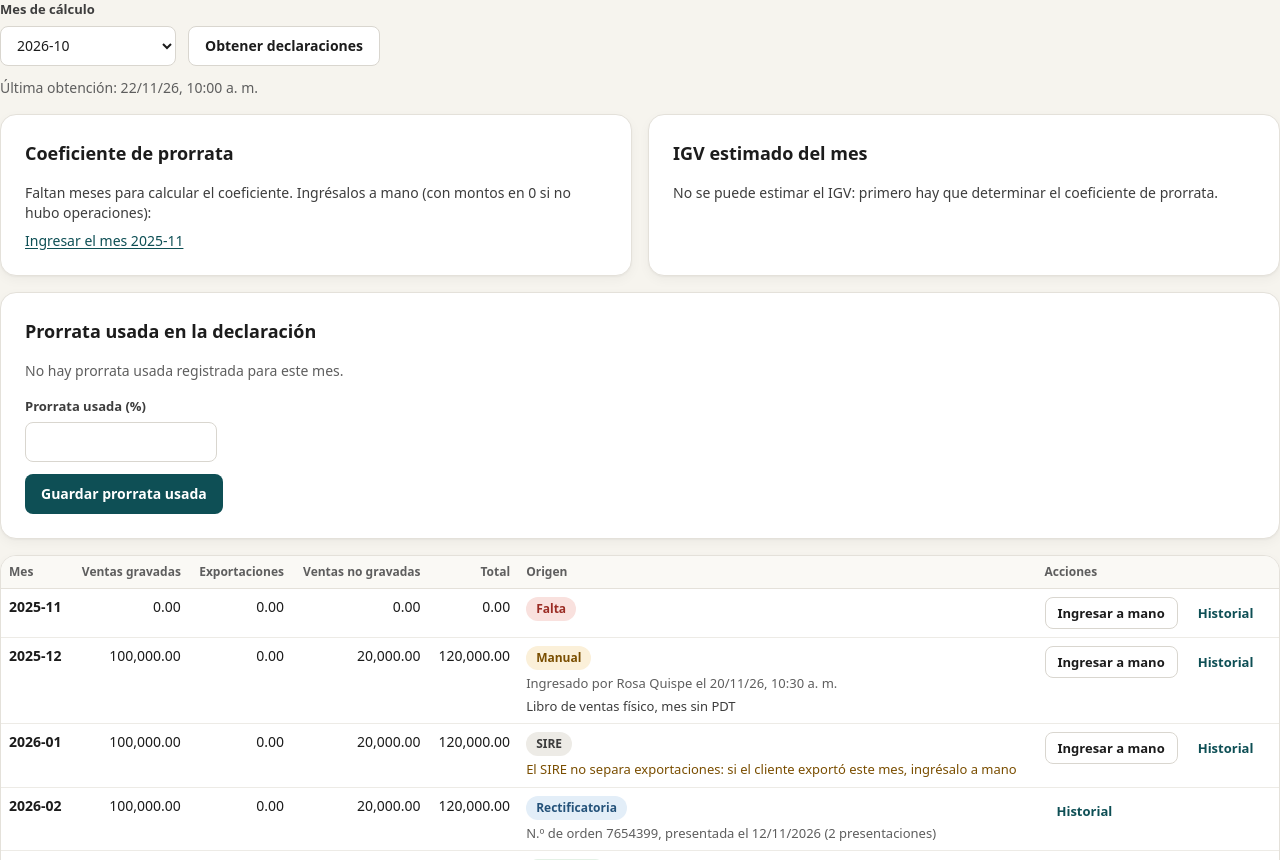
Test: D-1: 409 en el diálogo de mes manual › cancelar sin haber chocado no vuelve a leer
The image size is (1280, 860).
Click the 1st button "Ingresar a mano" at (1111, 613), box [1044, 597, 1178, 629]
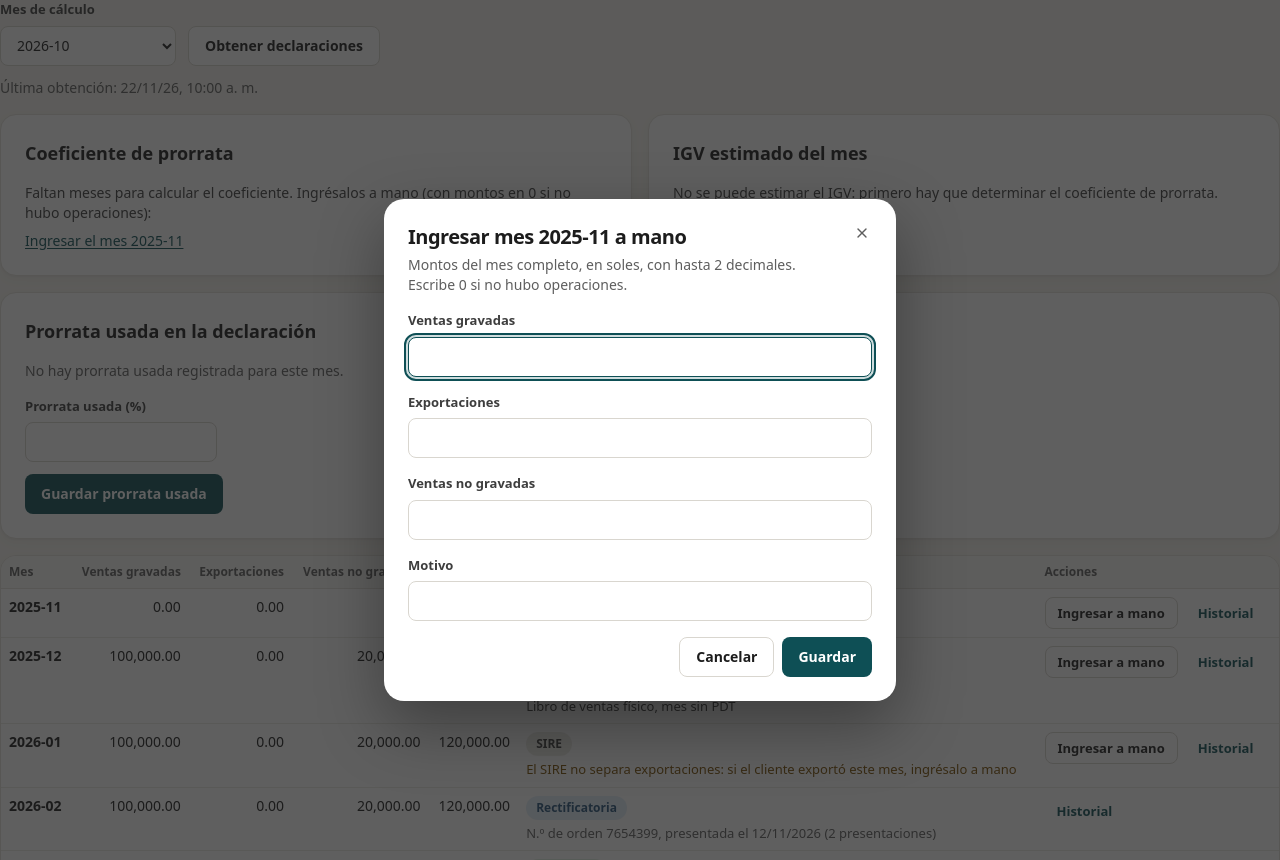
Click the button "Cancelar" at (727, 657), box [679, 637, 774, 677]
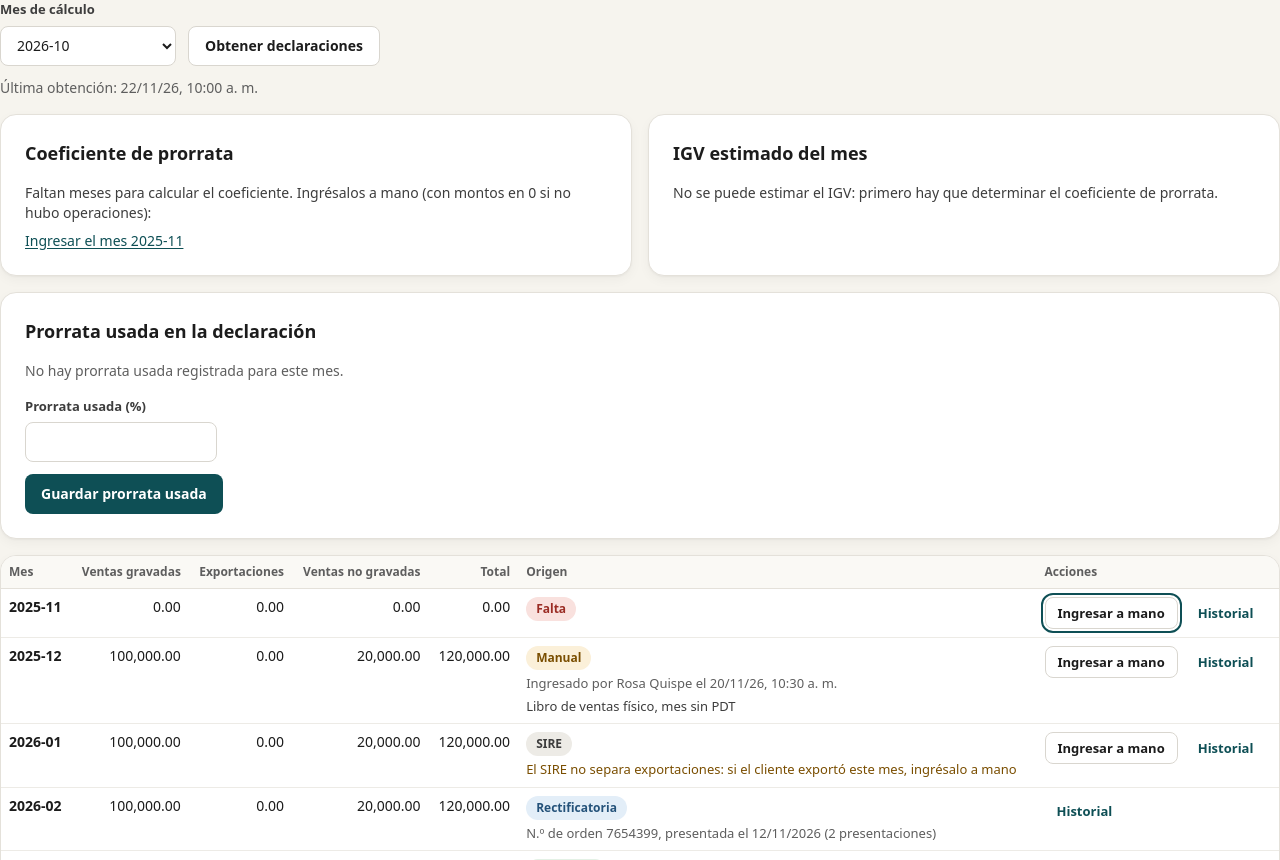
Now the dialog is gone
